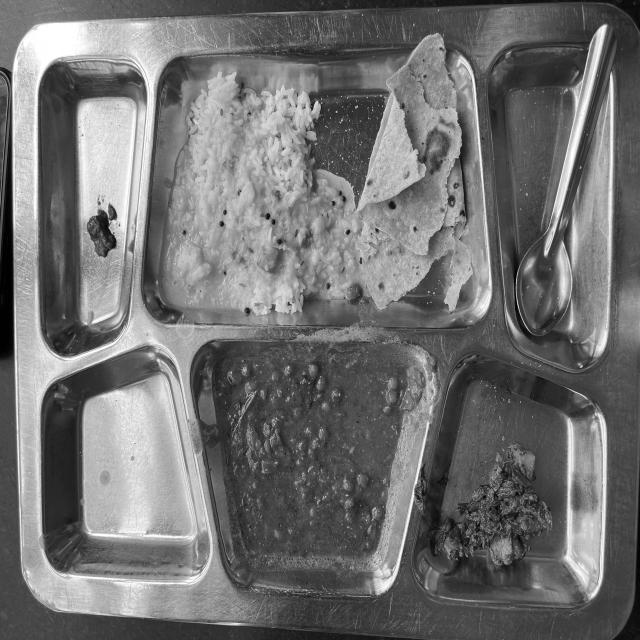100.11- Food Left: (31, 34, 618, 612)
